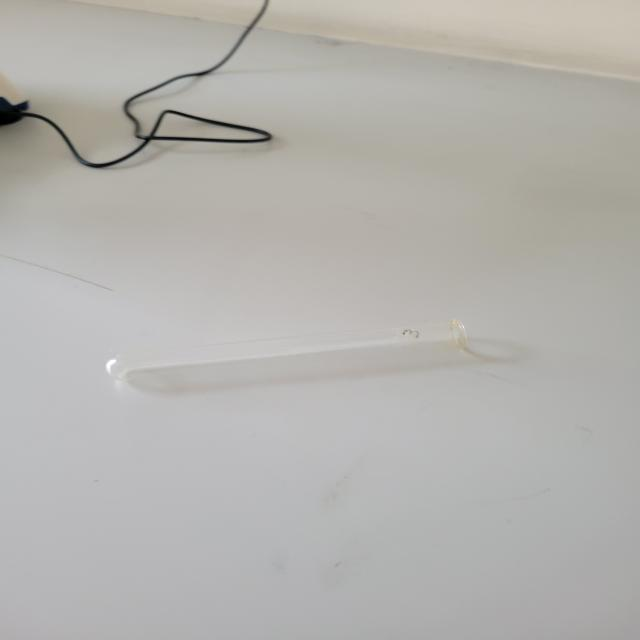Test_Tube: (87, 300, 482, 408)
